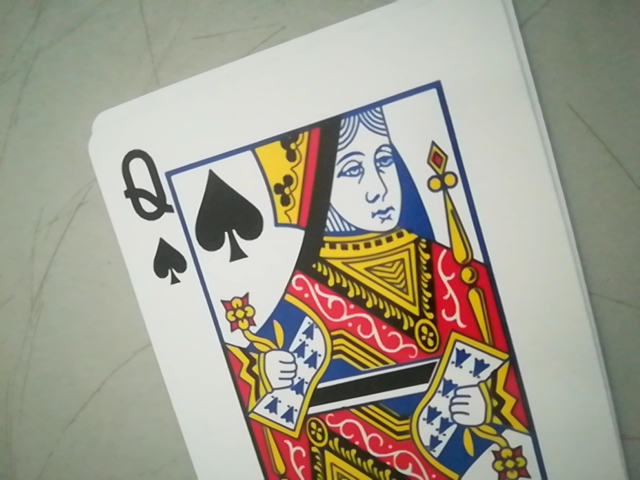ht q: (112, 140, 195, 289)
